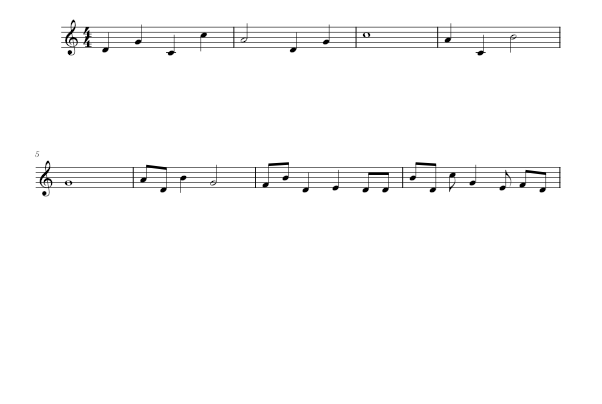Treble Clef: (37, 158, 56, 199), (61, 17, 79, 57)
